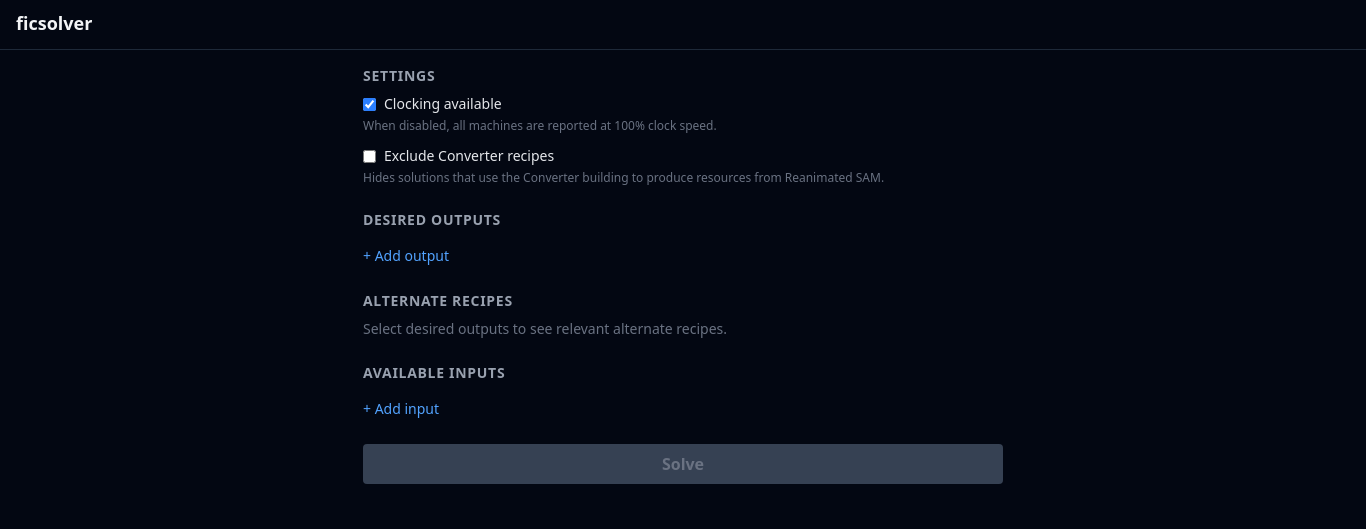
Test: App › populates input combobox with items from API
Click the button "+ Add input": (401,409) 363,399 -> 439,419
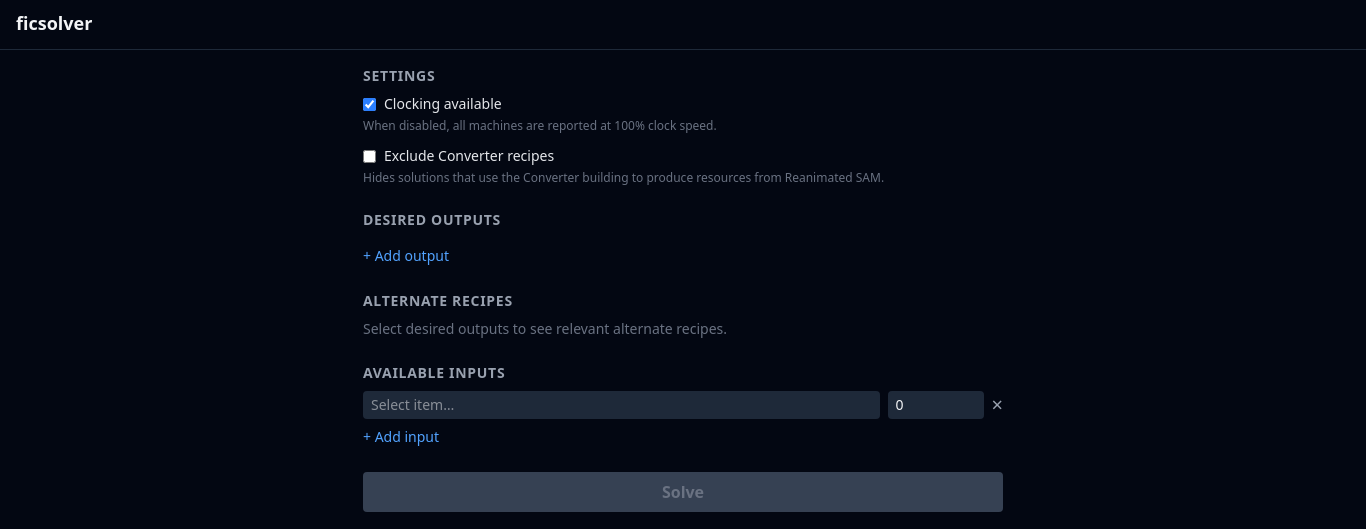
In the field named "Input item": (621,405) 363,391 -> 880,419, type "ingot"
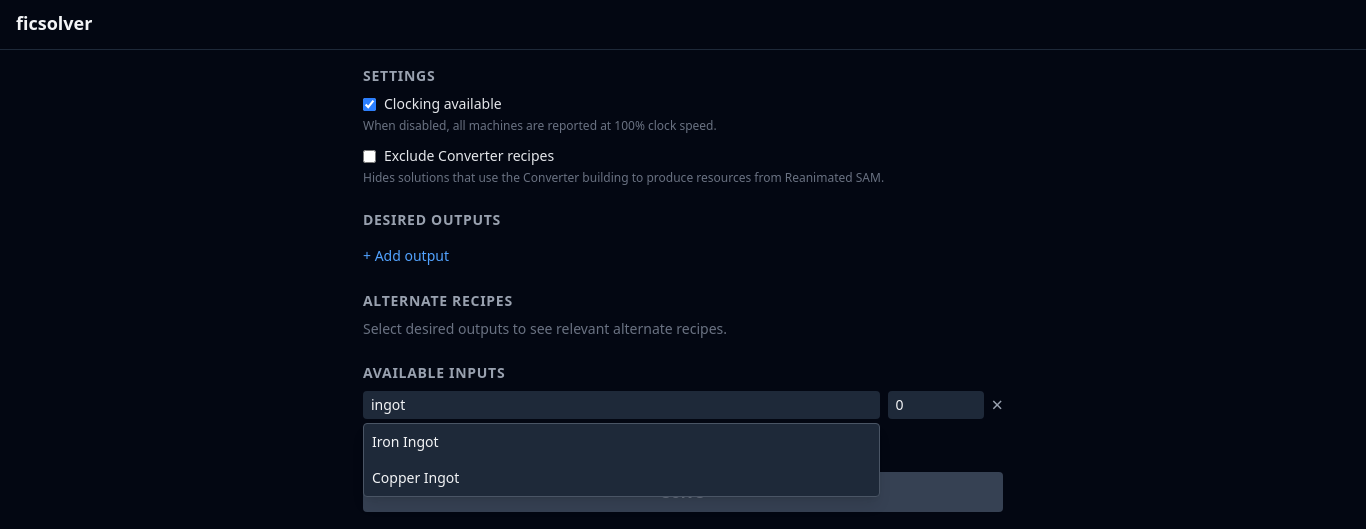
Expected: the list item "Iron Ingot" is shown, 372,432 -> 438,451
Expected: the list item "Copper Ingot" is shown, 372,468 -> 459,487
